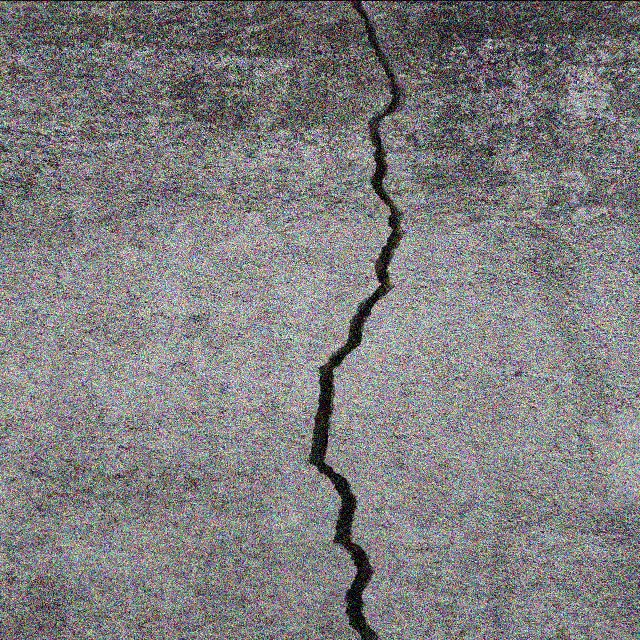SurfaceCrack: (282, 0, 440, 639)
